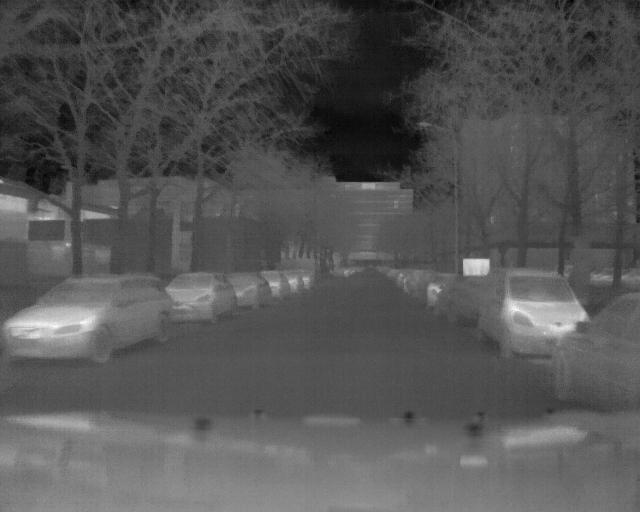car: (2, 275, 179, 362), (479, 273, 592, 360), (168, 273, 240, 324)
